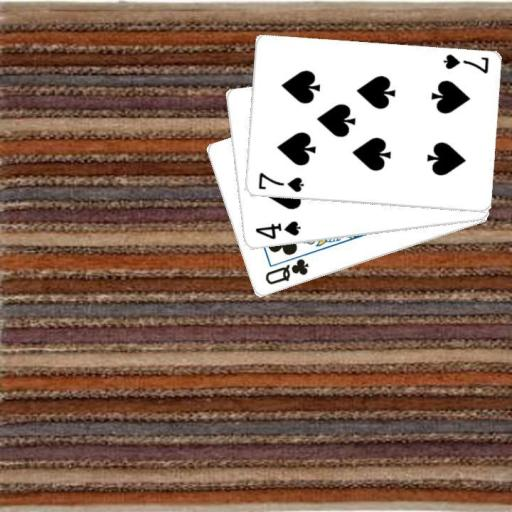4S: (252, 218, 302, 242)
7S: (439, 52, 490, 76), (255, 170, 305, 194)
QC: (262, 256, 310, 287)
